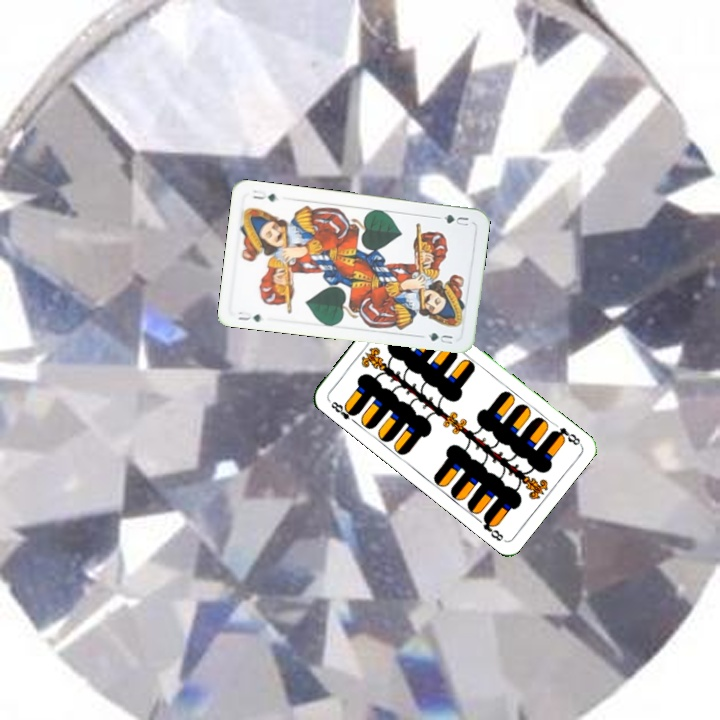E8: (326, 397, 360, 426), (548, 423, 583, 448)
GU: (440, 210, 471, 228), (234, 307, 263, 325)
